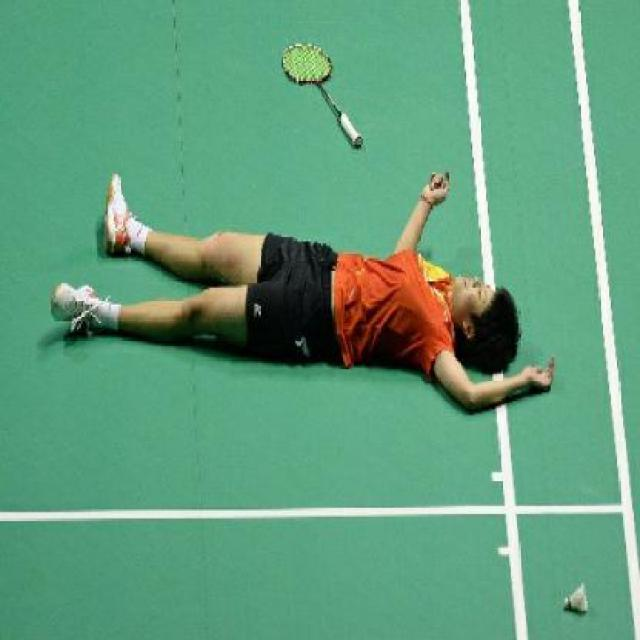fall: (31, 155, 558, 411)
